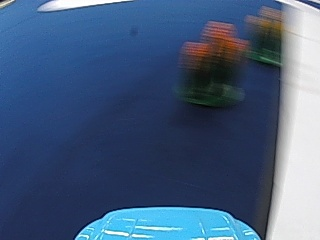corn: (181, 15, 247, 109)
